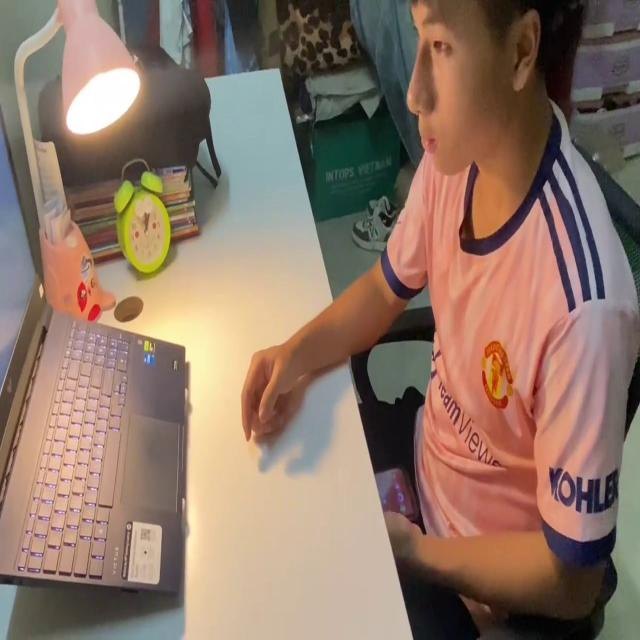laptop: (0, 100, 189, 600)
phone: (371, 455, 414, 514)
student: (234, 0, 640, 640)
